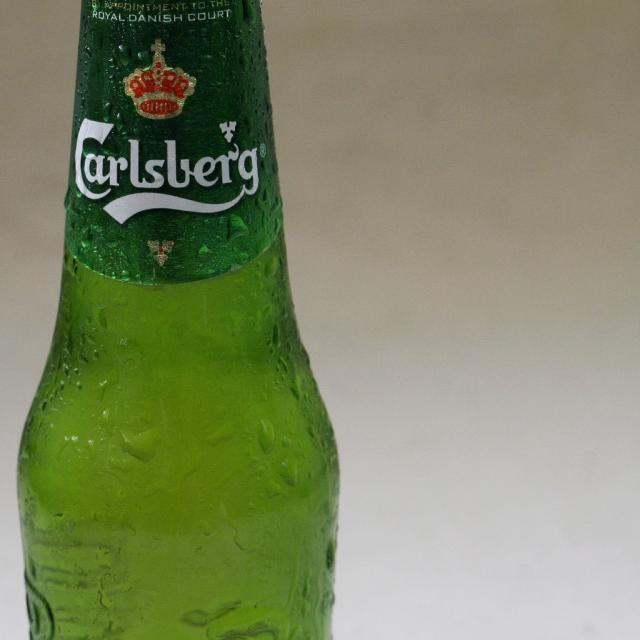carlsberg: (70, 31, 271, 229)
